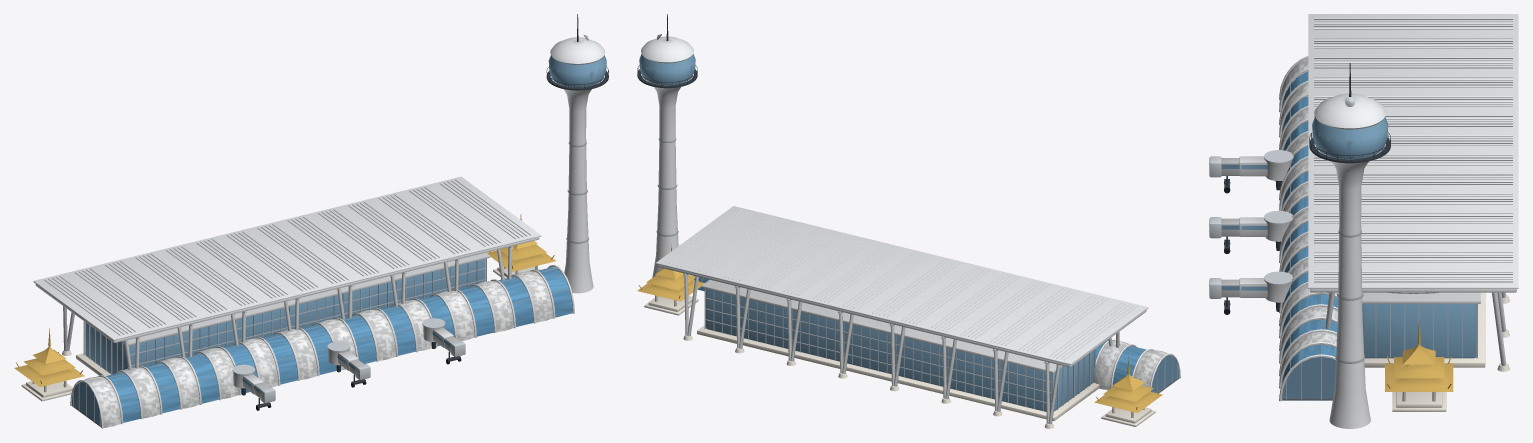
The model's file is suvarnabhumi.glb.
The picture shows the model from 3 angles, left to right: view 1: azimuth 30°, elevation 25°; view 2: azimuth 150°, elevation 25°; view 3: azimuth 270°, elevation 25°; orthographic projection. The views are drawn at different scales.
Parts seen in each view (by area): view 1: LOD0_Steel, LOD0_Membrane, LOD1_Steel, LOD0_Glass, LOD0_TubeGlass, LOD0_Frame, LOD0_Gold, LOD0_Roof, LOD0_Plaster, LOD1_Gold, LOD1_Glass, LOD0_Dark; view 2: LOD0_Steel, LOD0_Glass, LOD1_Steel, LOD0_Frame, LOD0_Plaster, LOD0_Gold, LOD0_Roof, LOD0_Membrane, LOD1_Gold, LOD0_TubeGlass; view 3: LOD0_Steel, LOD1_Steel, LOD0_Glass, LOD0_Membrane, LOD0_TubeGlass, LOD0_Frame, LOD0_Plaster, LOD0_Gold, LOD1_Gold, LOD1_Glass, LOD0_Dark, LOD0_Roof (+2 smaller).
Boxes of the visible parts, x1,y1,x2,y2 form: LOD0_Steel: [33, 37, 605, 426]; LOD0_Membrane: [84, 271, 553, 427]; LOD1_Steel: [33, 43, 603, 428]; LOD0_Glass: [71, 55, 606, 426]; LOD0_TubeGlass: [106, 267, 572, 422]; LOD0_Frame: [73, 34, 606, 426]; LOD0_Gold: [16, 241, 554, 385]; LOD0_Roof: [35, 237, 539, 342]; LOD0_Plaster: [21, 265, 540, 401]; LOD1_Gold: [14, 214, 555, 386]; LOD1_Glass: [85, 55, 604, 372]; LOD0_Dark: [241, 14, 608, 408]; LOD0_Steel: [641, 36, 1174, 424]; LOD0_Glass: [639, 54, 1179, 411]; LOD1_Steel: [643, 40, 1180, 424]; LOD0_Frame: [639, 34, 1177, 411]; LOD0_Plaster: [644, 295, 1155, 428]; LOD0_Gold: [638, 268, 1161, 411]; LOD0_Roof: [657, 264, 1146, 367]; LOD0_Membrane: [1093, 341, 1167, 390]; LOD1_Gold: [637, 244, 1162, 412]; LOD0_TubeGlass: [694, 276, 1146, 386]; LOD0_Steel: [1221, 14, 1518, 428]; LOD1_Steel: [1221, 14, 1518, 428]; LOD0_Glass: [1221, 116, 1476, 400]; LOD0_Membrane: [1279, 58, 1338, 382]; LOD0_TubeGlass: [1282, 71, 1337, 383]; LOD0_Frame: [1209, 74, 1477, 400]; LOD0_Plaster: [1364, 292, 1509, 411]; LOD0_Gold: [1386, 344, 1451, 390]; LOD1_Gold: [1385, 320, 1453, 391]; LOD1_Glass: [1322, 120, 1473, 357]; LOD0_Dark: [1224, 63, 1390, 311]; LOD0_Roof: [1310, 289, 1516, 292].
Bounding box in the file's own units: 145 × 68.5 × 53.8.
